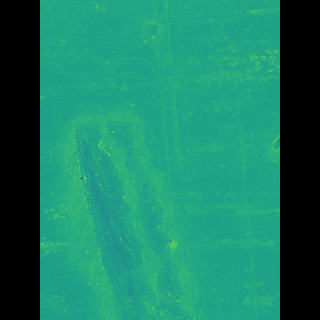Loch: (82, 102, 194, 319)
